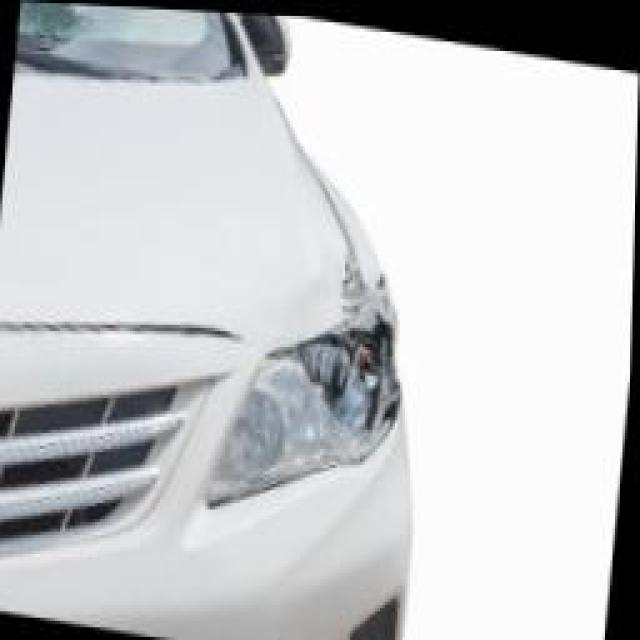Bonnet: (315, 236, 367, 311)
Light: (260, 302, 408, 459)
